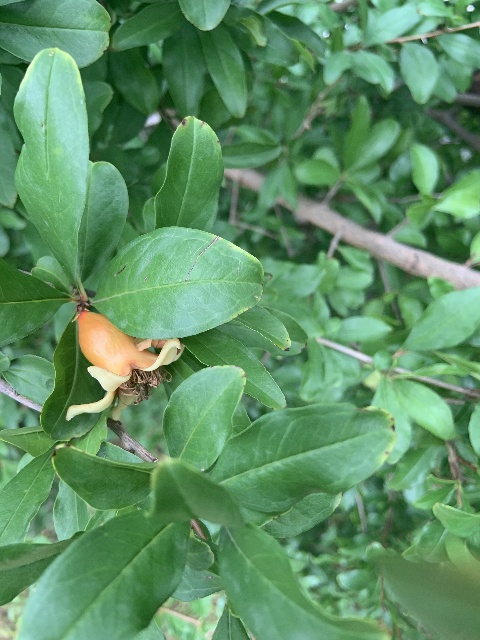early-fruit: (67, 311, 183, 421)
